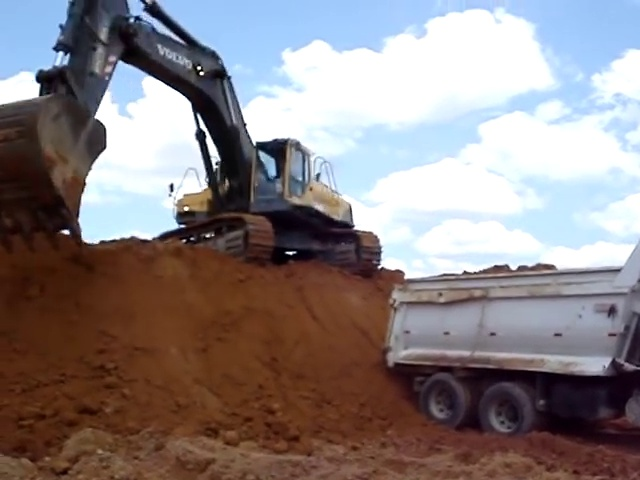excavator: (2, 1, 384, 275)
truck: (388, 234, 640, 432)
